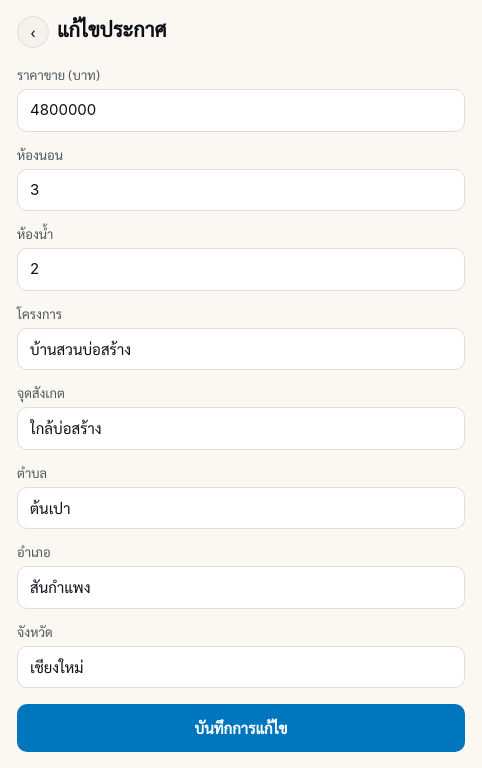
it: Owner edit surface (/edit/{id}) › a 404 on PATCH (non-claimant) shows the not-owner message, not the success outcome
Expected: the heading "แก้ไขประกาศ" is shown, [57,18,166,46]
Click the button "บันทึกการแก้ไข" at [241, 728], box [17,704,465,752]
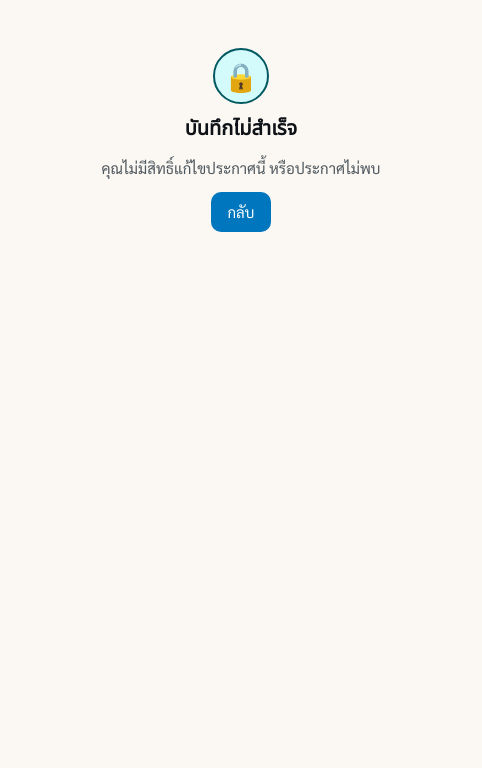
Now the heading "บันทึกไม่สำเร็จ" is shown, box [185,116,297,144]
Now the text "คุณไม่มีสิทธิ์แก้ไขประกาศนี้ หรือประกาศไม่พบ" is shown, box [102,156,380,180]
